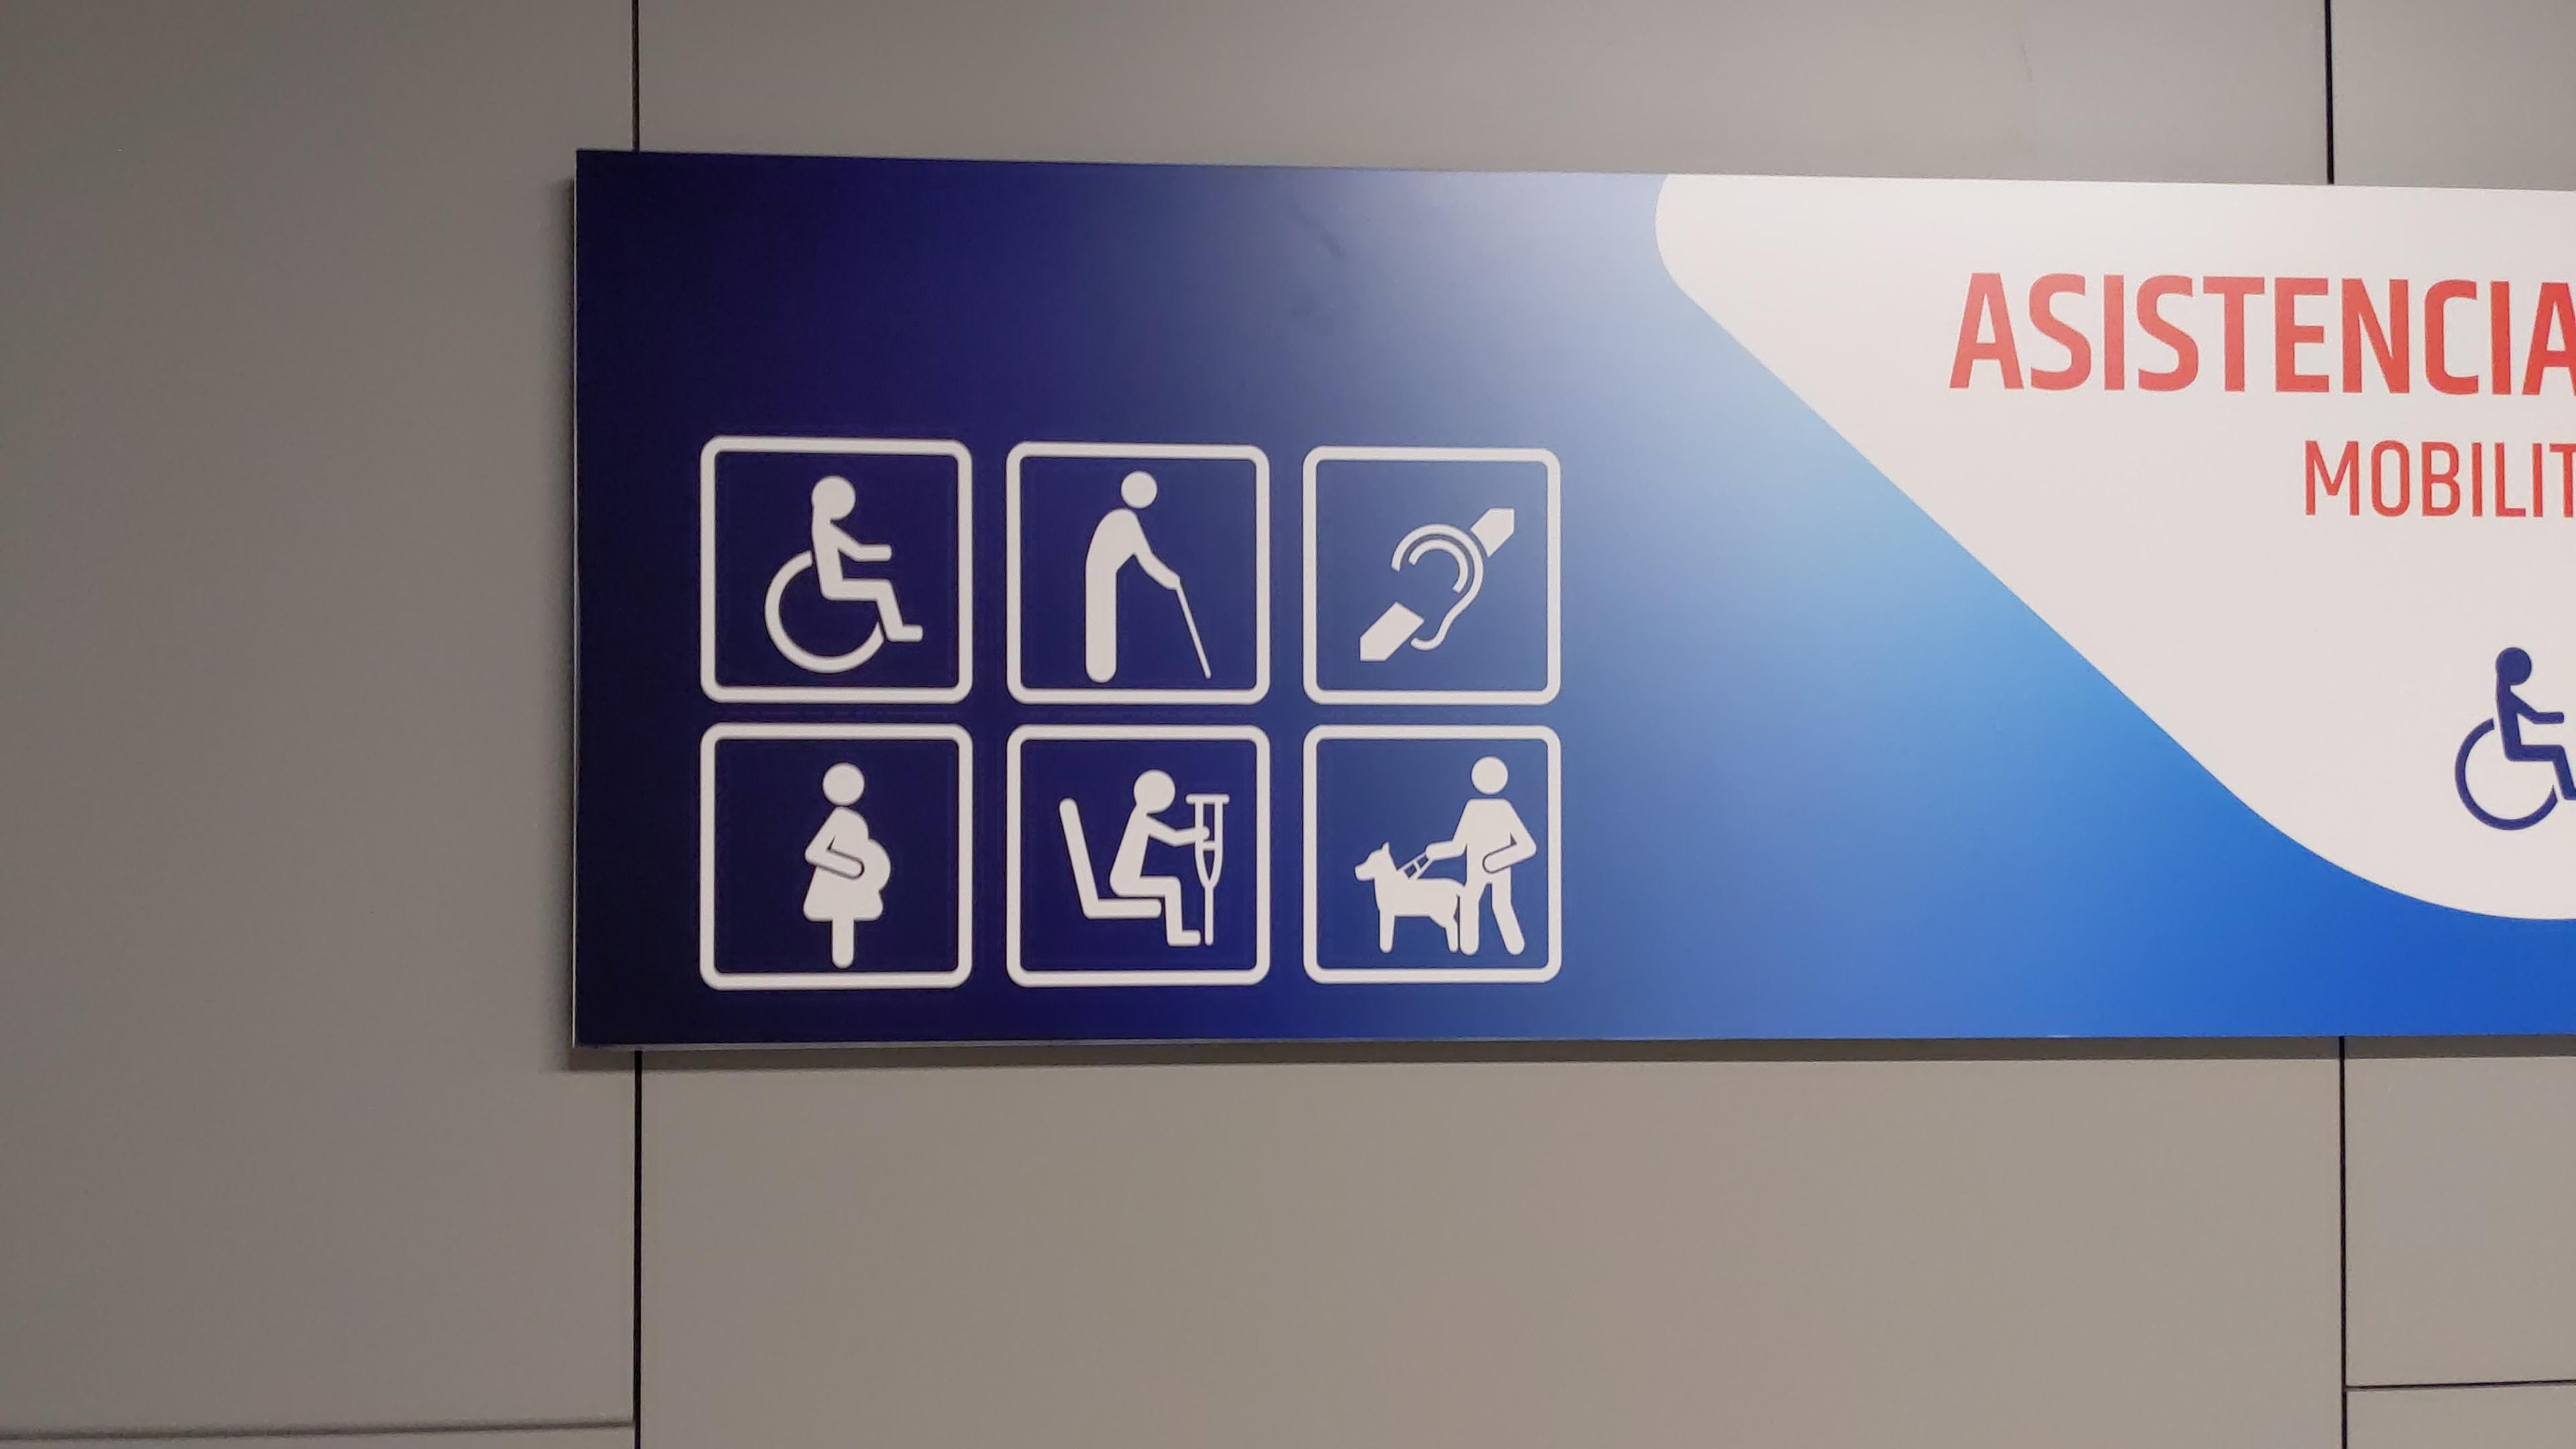handicapped symbol: (759, 472, 931, 678), (2452, 639, 2576, 837)
